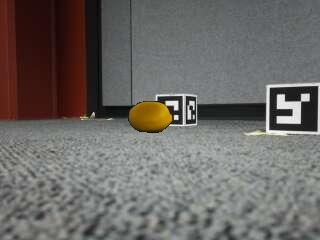lemon: (128, 101, 171, 132)
